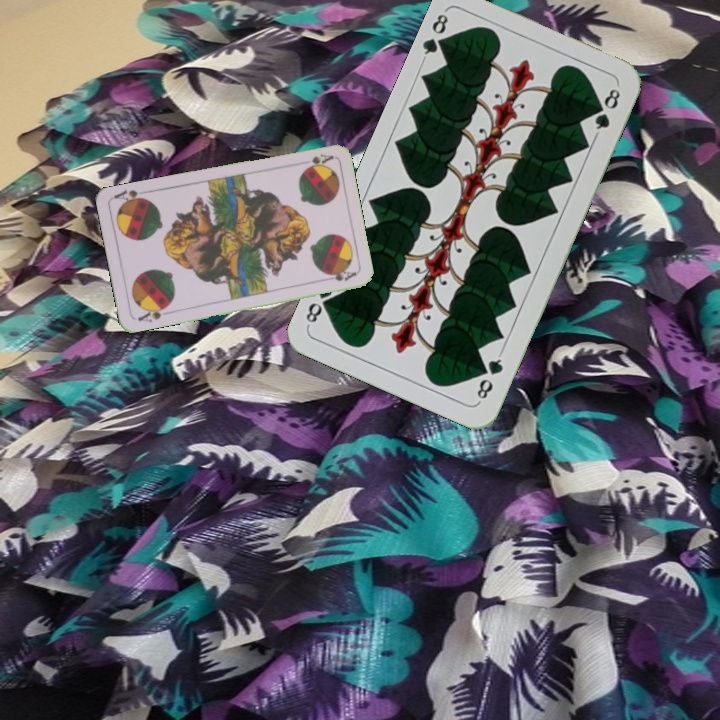G8: (418, 7, 453, 63), (472, 349, 506, 405)
SA: (134, 301, 172, 325), (295, 150, 335, 172)
